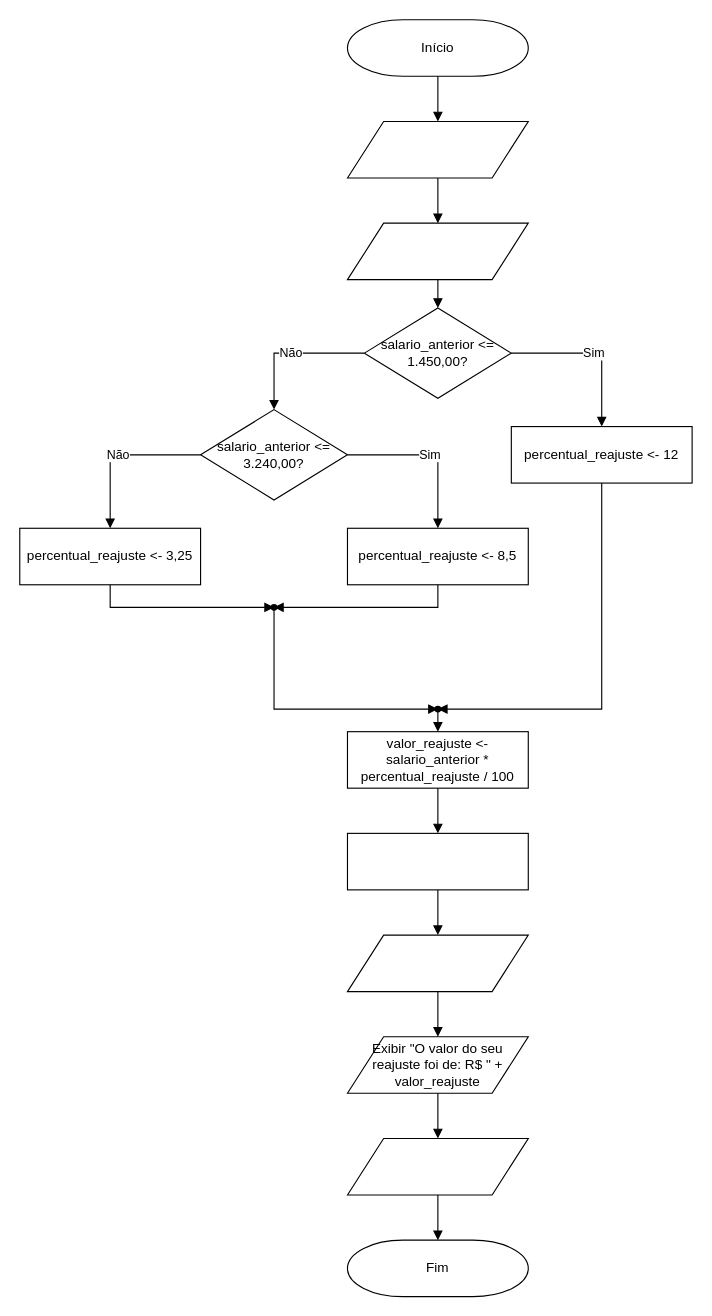
Some shapes in this 712 by 1316 pixel diagram are drawn without their labels. The shapes that lost their labels are listed below. From the top down, each one's box as (x1, y1, x2, y2) in pixels, then its label:
(346, 120, 528, 178): Exibir "Informe o salário anterior em R$:"
(346, 222, 528, 280): Ler salario_anterior
(346, 832, 528, 890): novo_salario <- salario_anterior + valor_reajuste
(346, 934, 528, 992): Exibir "Seu salário anterior era: R$ " + salario_anterior
(346, 1137, 528, 1195): Exibir "Seu novo salário é: R$ " + novo_salario
